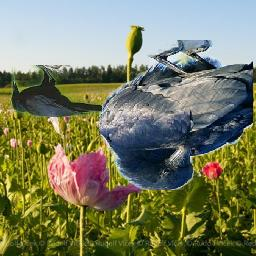Crow: (99, 40, 253, 190), (12, 65, 103, 117)
